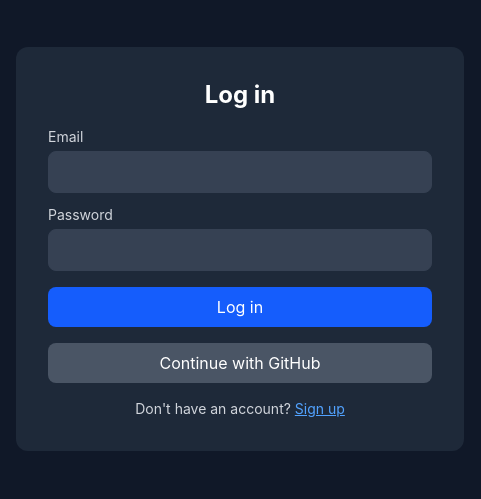
Scenario: a request that never reaches the server says so
This screenshot has width=481, height=499.
Type "me@example.com" into the field labelled "Email". click: (240, 172)
box: [48, 151, 432, 193]
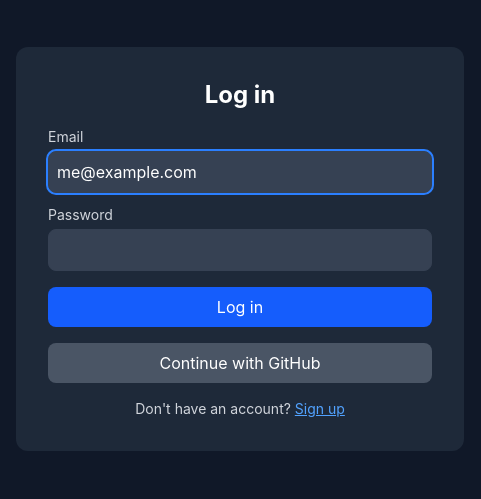
Type "password1" into the password field labelled "Password". click: (240, 250)
box: [48, 229, 432, 271]
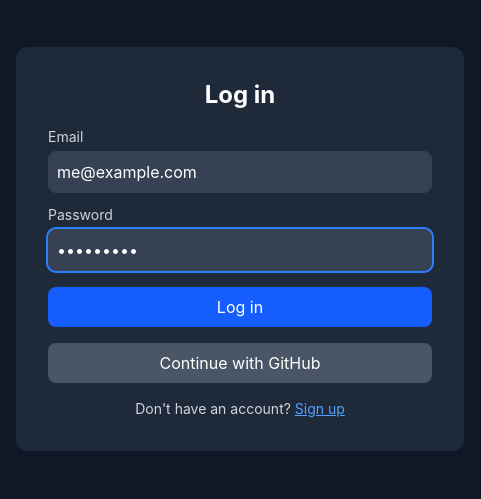
Click the button "Log in". click: (240, 307)
box: [48, 287, 432, 327]
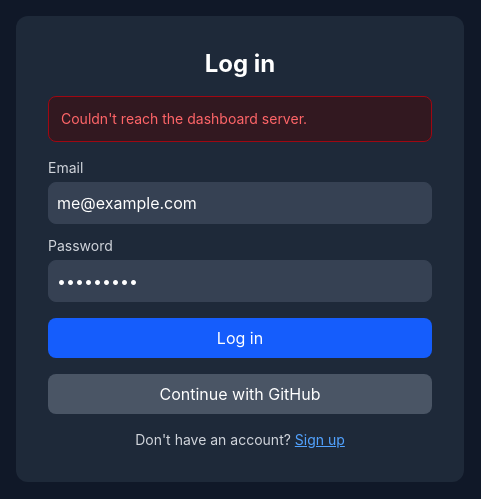
expect the message reads "Couldn't reach the dashboard server.": met, box [61, 110, 307, 127]
